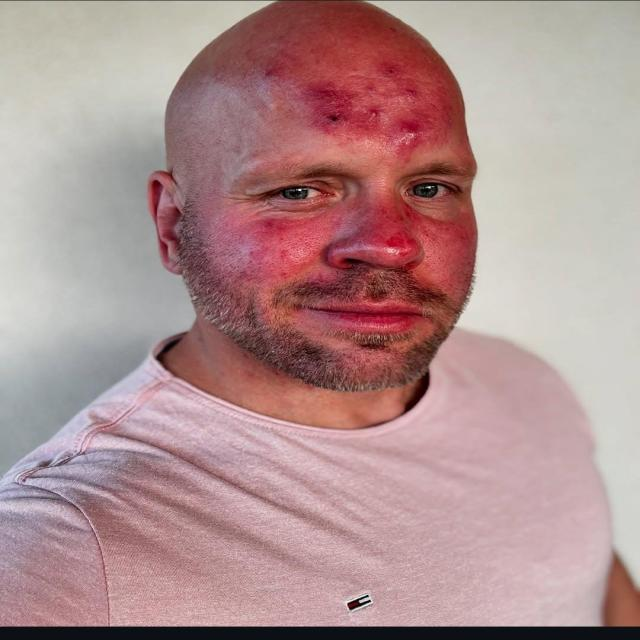Rosacea: (219, 210, 476, 284), (294, 78, 432, 161)
